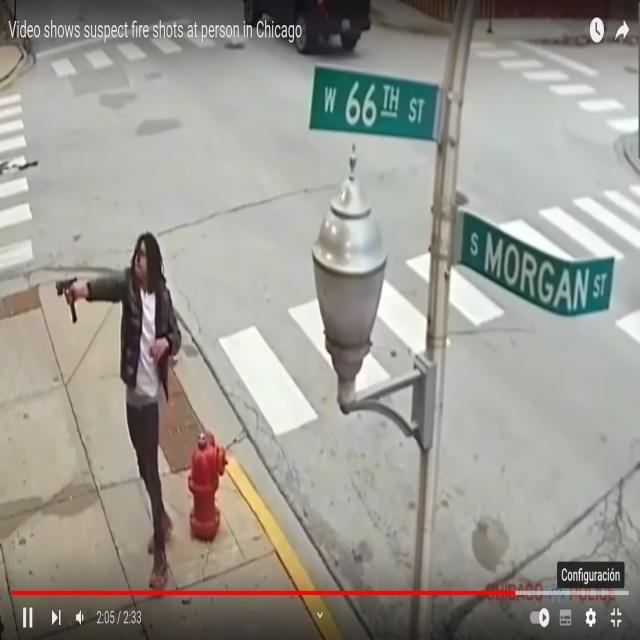FPistol: (53, 269, 78, 306)
